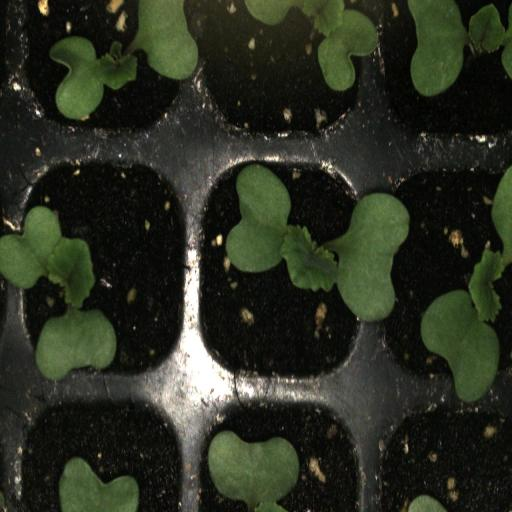seedling: (192, 148, 375, 388), (14, 146, 193, 386), (374, 148, 512, 388), (20, 0, 194, 151)
